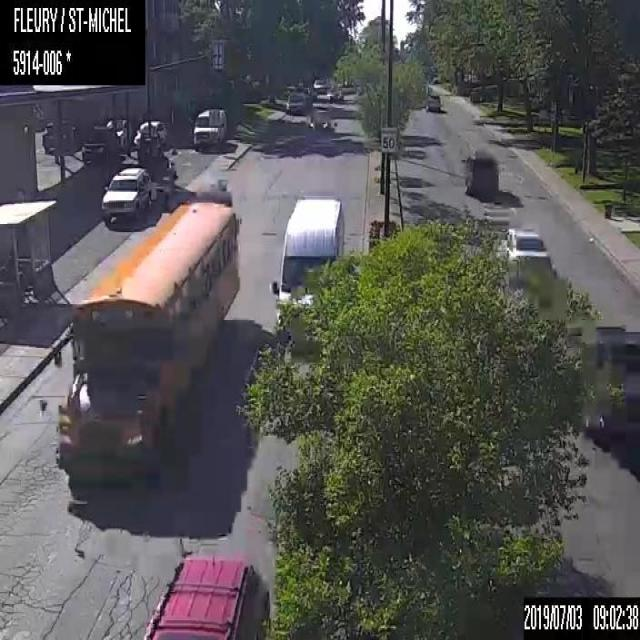bus: (54, 188, 241, 477)
vehicle: (146, 553, 272, 639), (269, 189, 347, 319), (99, 166, 152, 226), (498, 230, 552, 274), (462, 149, 498, 196), (191, 108, 228, 151), (80, 125, 119, 163), (134, 119, 167, 151), (306, 108, 333, 138), (286, 90, 311, 113), (108, 119, 125, 150), (322, 81, 342, 103), (425, 89, 441, 111)
